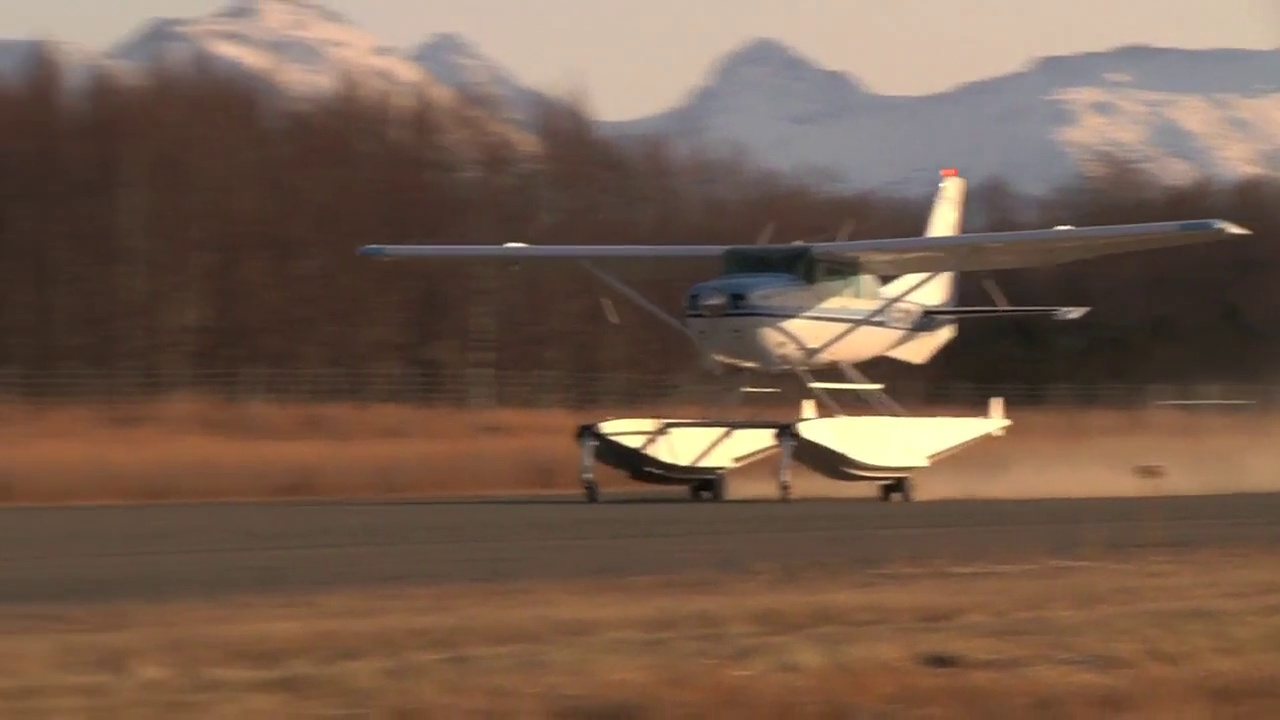plane: (358, 167, 1254, 505)
